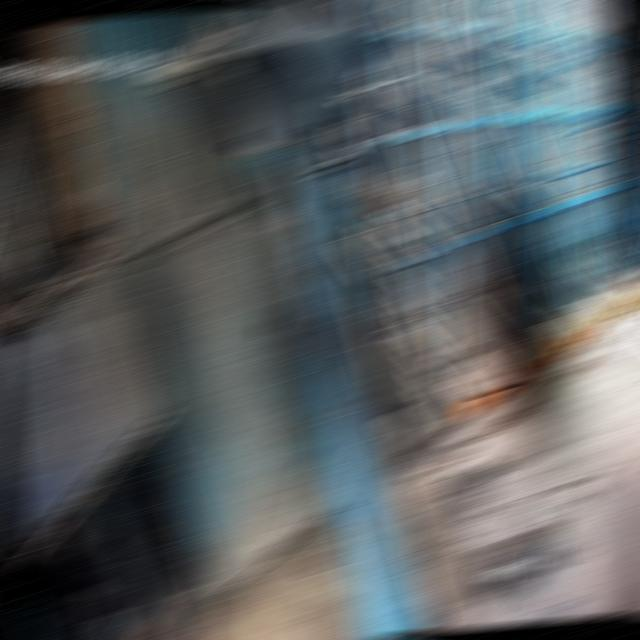swing_chute: (227, 123, 344, 349)
